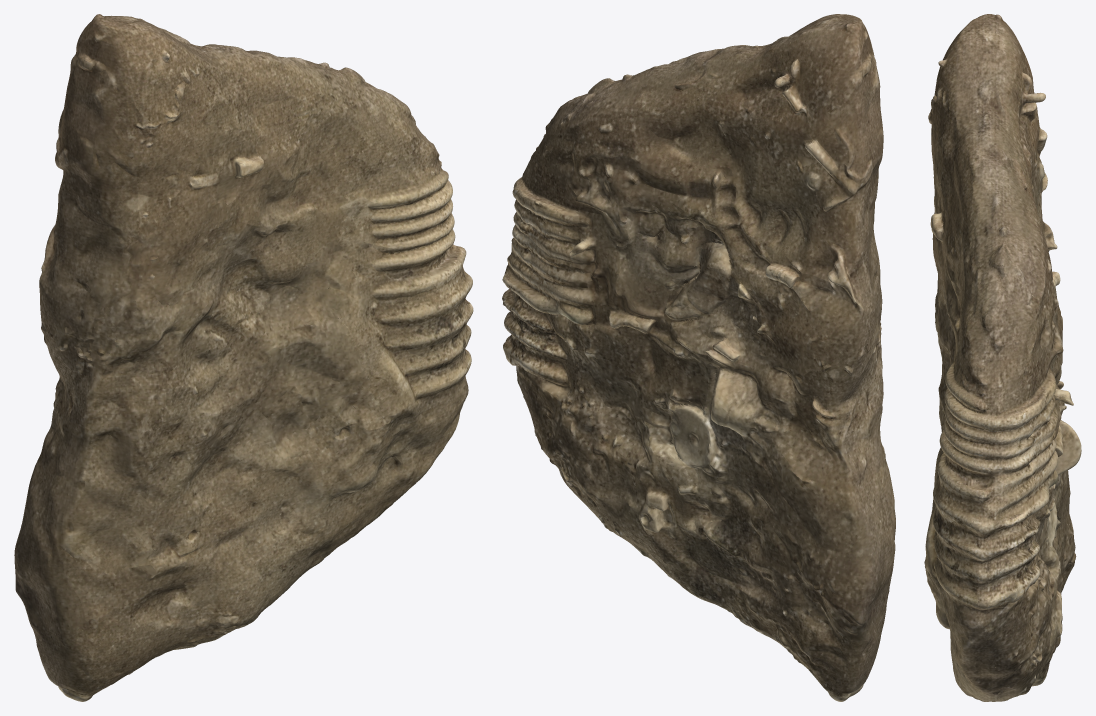
Rendered from riverbed_fossil.glb.
3 views of the same model, side by side, from view 1: azimuth 30°, elevation 25°; view 2: azimuth 150°, elevation 25°; view 3: azimuth 270°, elevation 25° (orthographic). The views are drawn at different scales.
Size of the model in its own units: 1.21 by 1.9 by 0.4011.
Materials: 1 (1 with a texture image).
